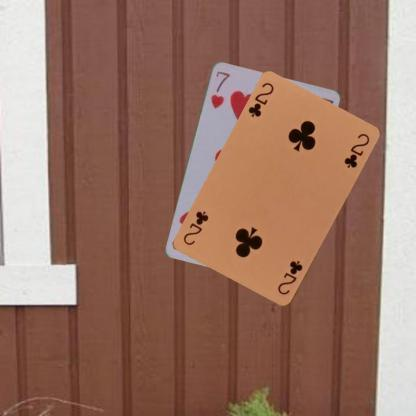2c: (246, 80, 276, 119), (275, 258, 304, 296)
7h: (208, 68, 232, 110)
